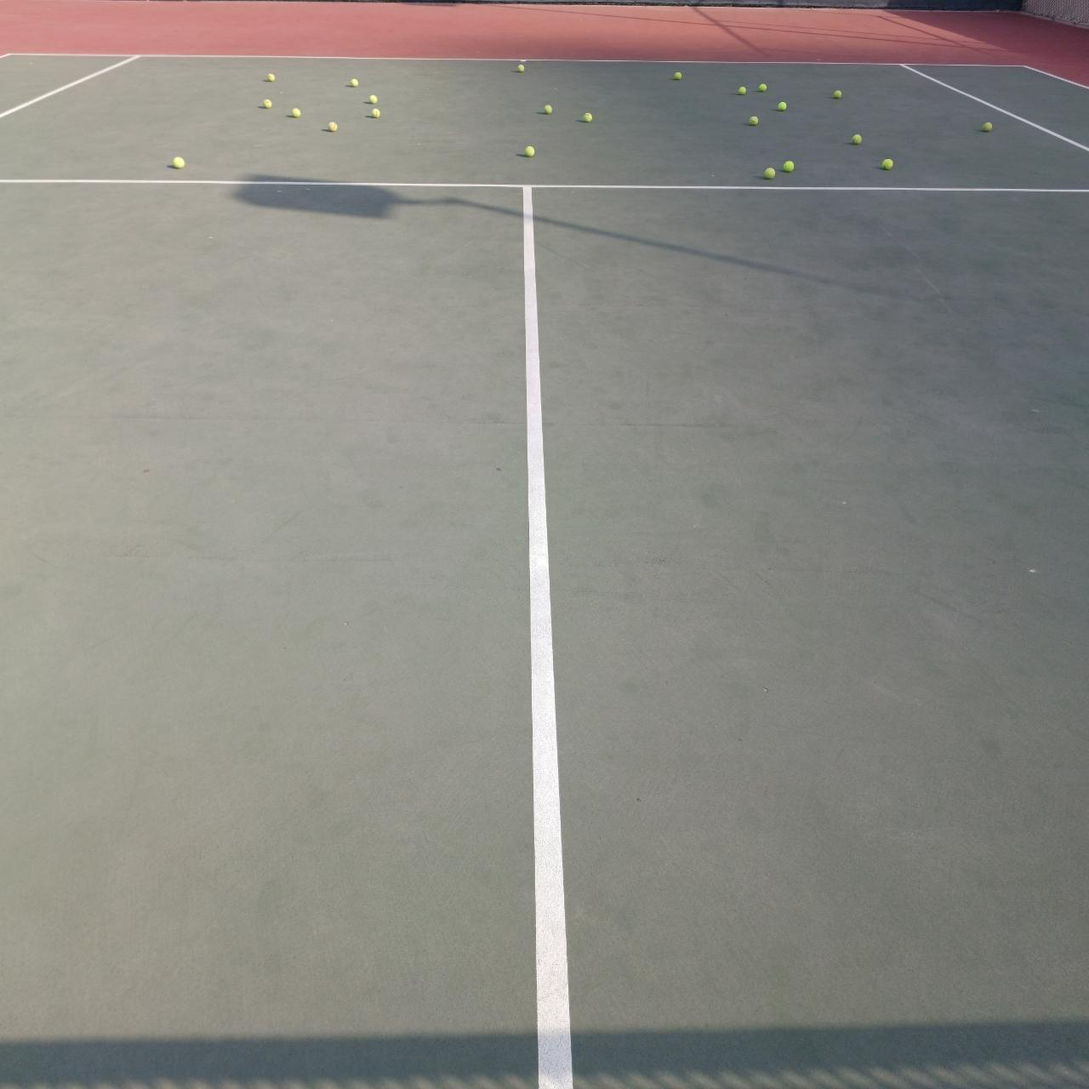tennis-ball: (171, 155, 185, 169), (881, 157, 894, 171), (523, 144, 536, 157), (582, 111, 593, 123), (542, 103, 553, 115), (783, 160, 794, 172), (764, 167, 775, 178), (982, 121, 993, 132), (851, 134, 862, 144), (368, 94, 378, 104), (291, 108, 301, 118), (328, 121, 337, 131), (371, 108, 380, 118), (777, 102, 787, 111), (758, 83, 767, 92), (749, 116, 758, 125), (264, 99, 272, 109), (350, 78, 358, 87), (517, 63, 525, 72), (738, 86, 746, 95), (833, 90, 842, 98), (267, 73, 275, 81), (674, 72, 682, 80)
